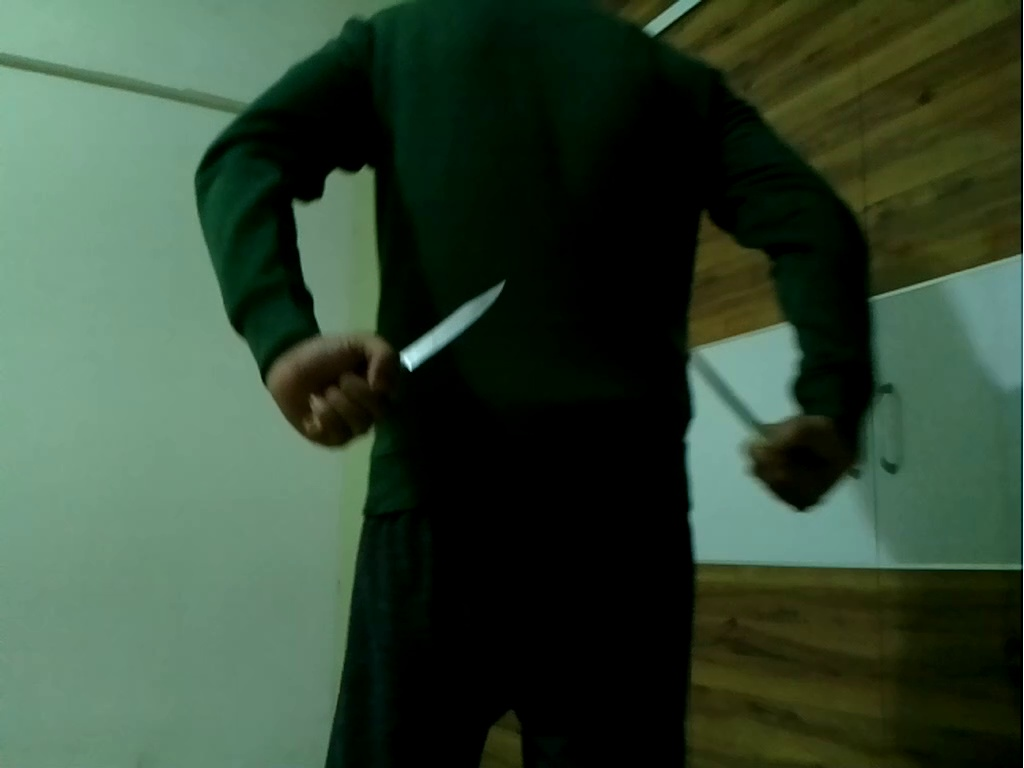knife: (325, 274, 521, 414)
